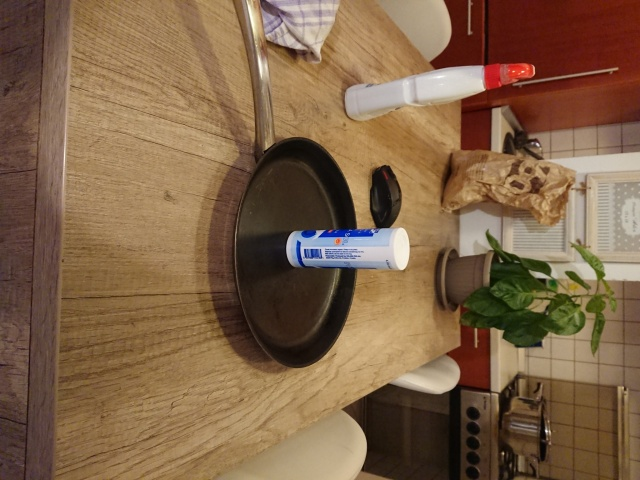Solana Pag Fine Sea Salt 250g: (282, 225, 413, 274)
